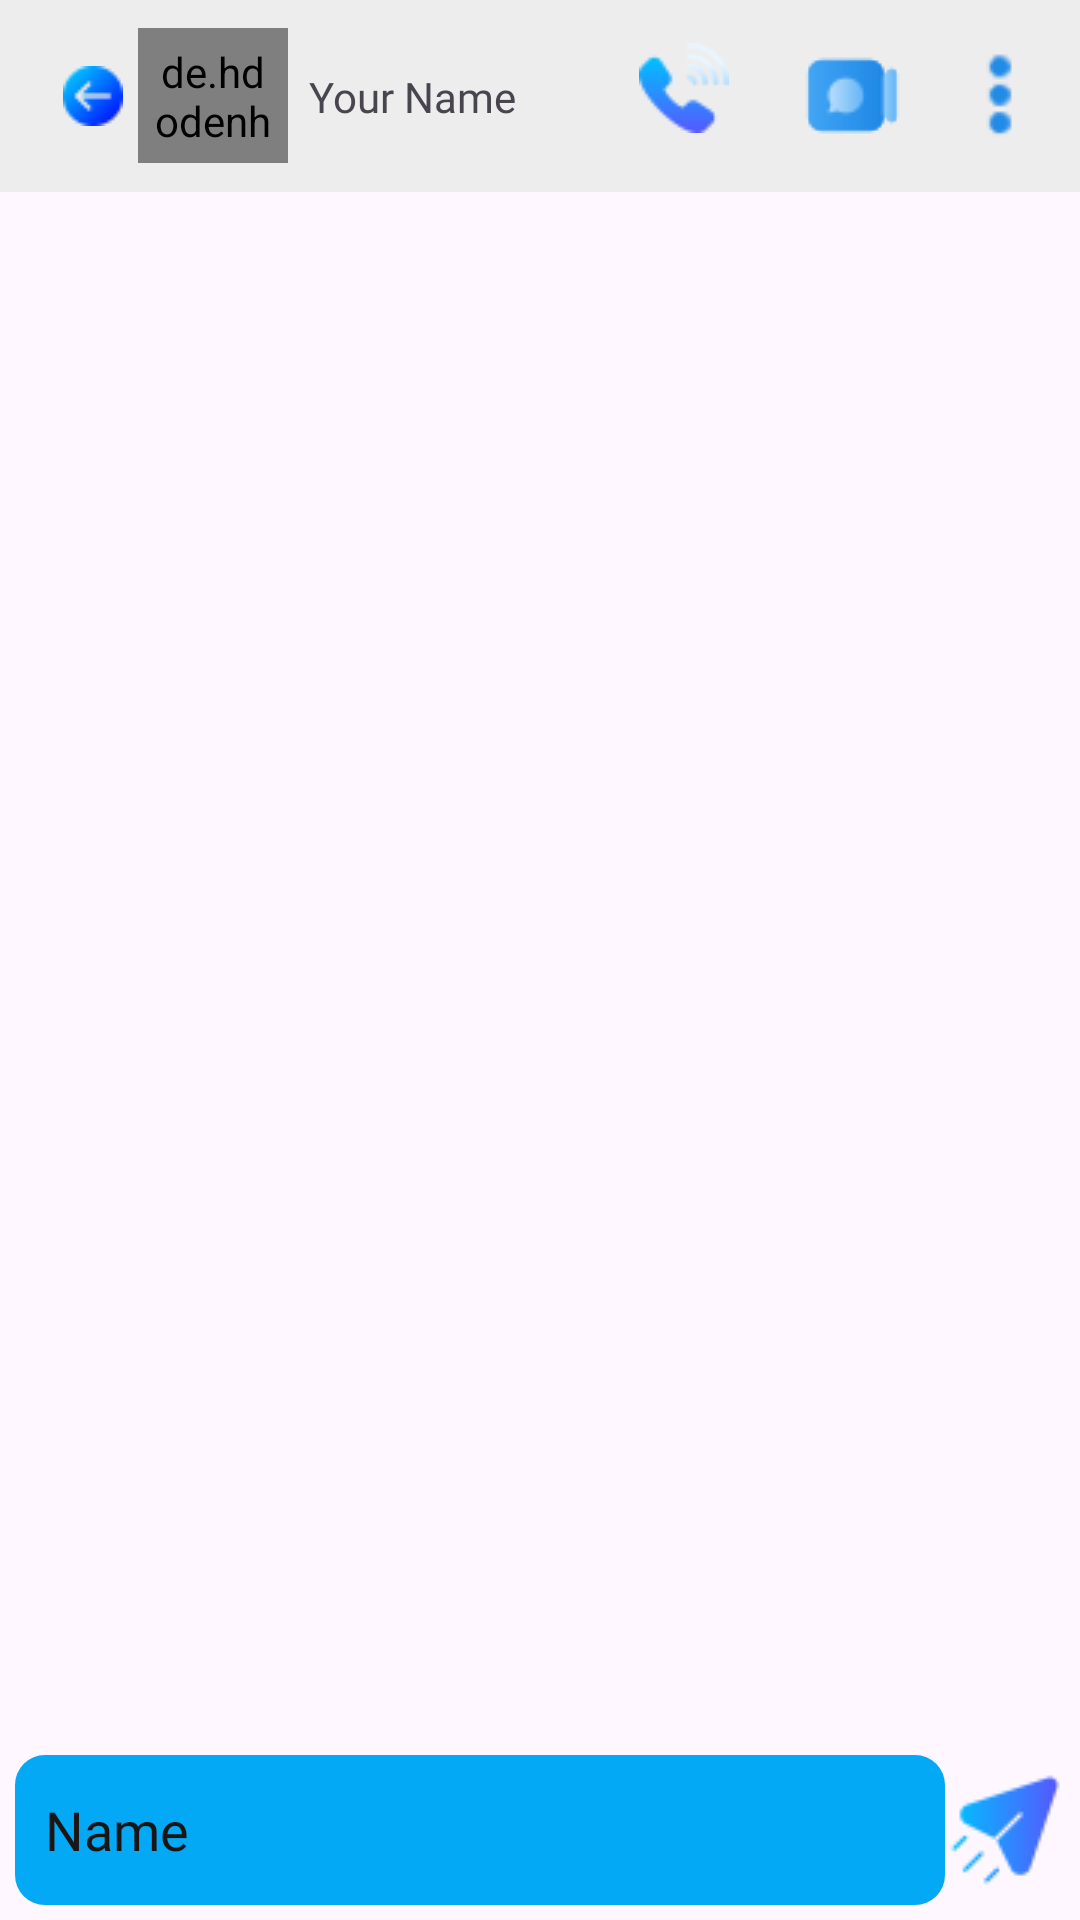

Named icons in this screenshot (1080x1920) and their centers, [x,y]:
arrow: [93,96]
phonecall: [684,94]
send: [1004,1830]
